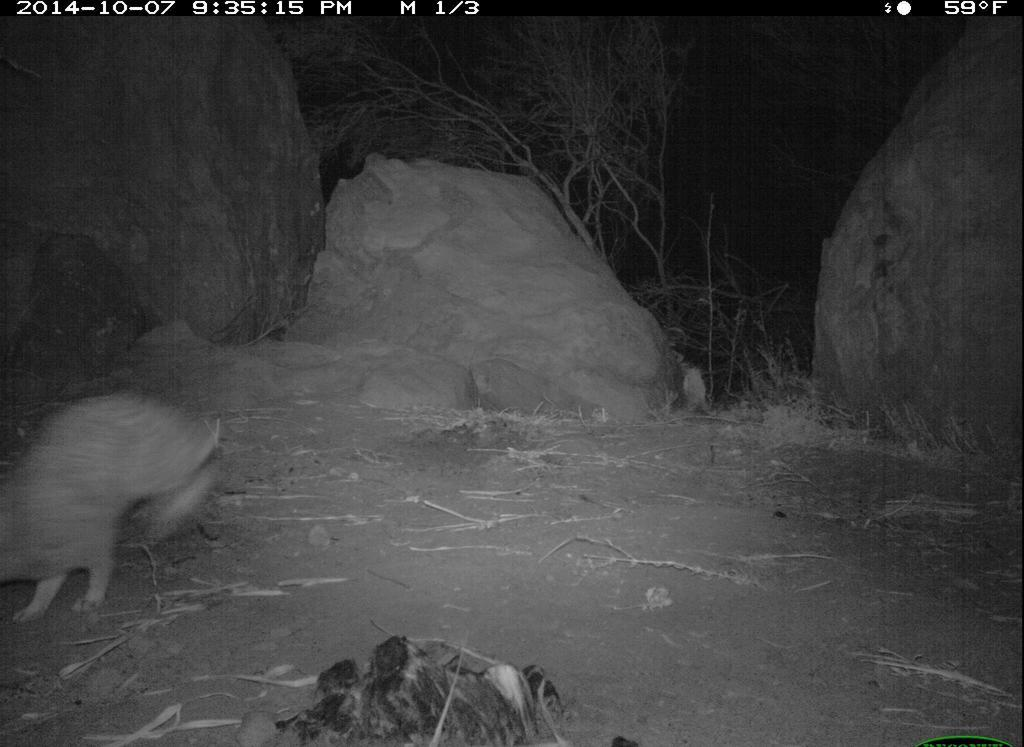rabbit: (3, 358, 235, 615)
